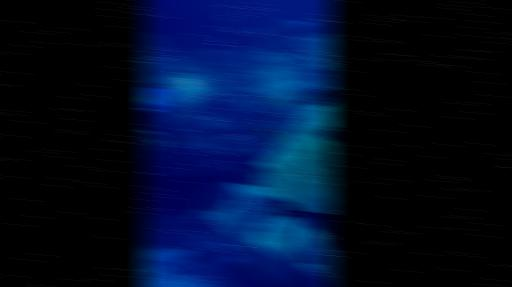Fish: (273, 199, 334, 249), (273, 13, 310, 34), (297, 88, 334, 109), (140, 93, 171, 108), (190, 209, 217, 219), (256, 123, 275, 137), (317, 126, 334, 141), (139, 130, 162, 141), (249, 26, 270, 36), (305, 13, 320, 26), (151, 138, 166, 150), (304, 252, 316, 263), (150, 56, 169, 62), (271, 133, 281, 144), (227, 149, 244, 155), (218, 17, 233, 22), (227, 29, 242, 34), (142, 13, 155, 18), (233, 127, 245, 132), (221, 28, 236, 32), (157, 46, 169, 51), (248, 87, 260, 92), (227, 167, 239, 172), (216, 37, 226, 42), (246, 0, 266, 1)
